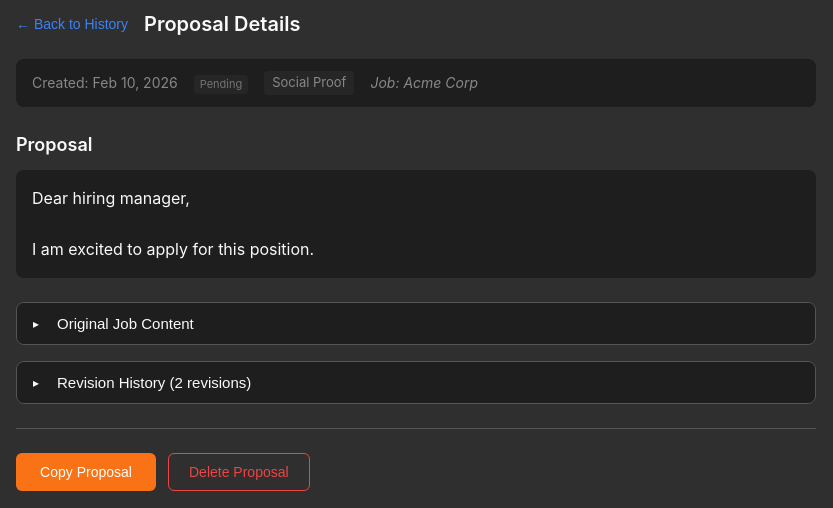
Test: ProposalDetailView › copies proposal text and shows Copied indicator (AC-3)
This screenshot has width=833, height=508.
Click the button with aria-label "Copy proposal text to clipboard" at coordinates (86, 472), box 16,453 -> 156,491
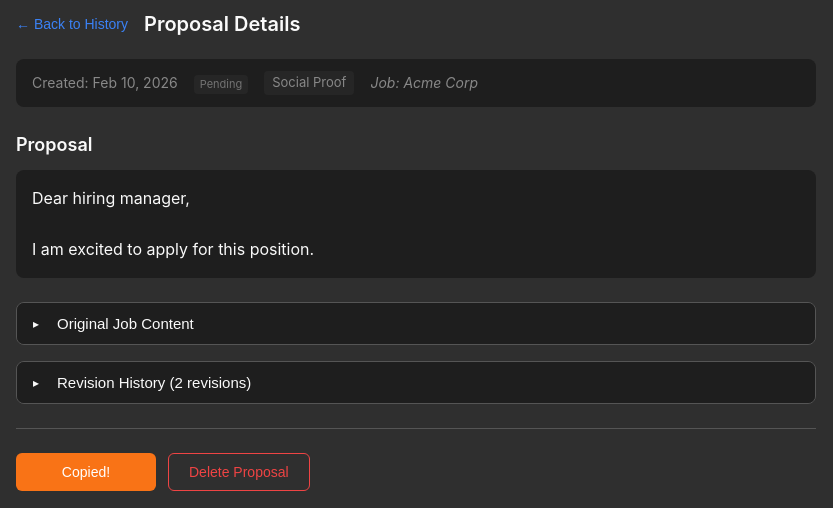
Now the button "Copied!" is shown, box 16,453 -> 156,491
